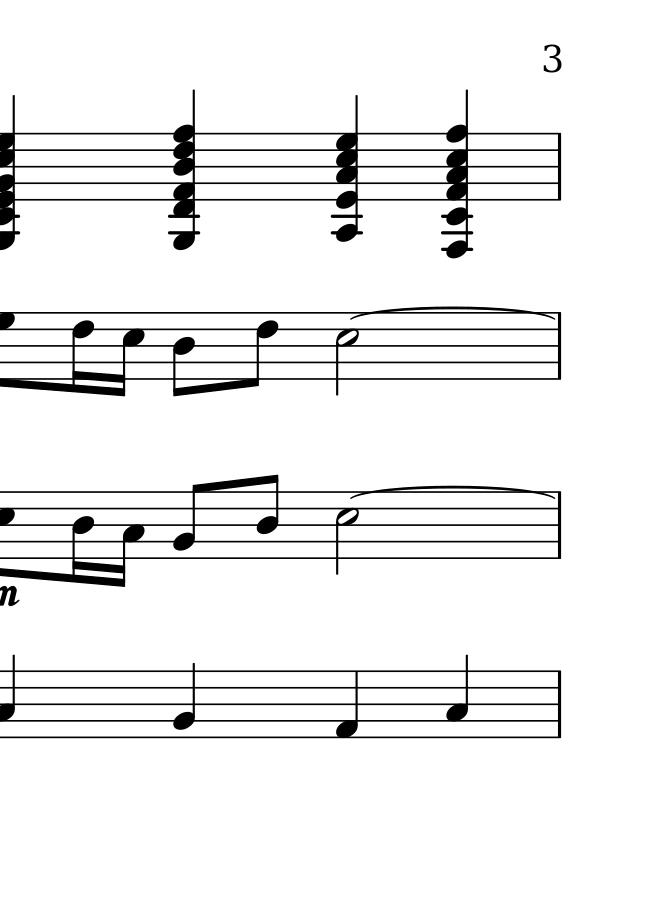16_3: (111, 488, 146, 588)
16_4: (71, 489, 95, 588)
16_5: (112, 310, 145, 399)
16_6: (70, 311, 95, 396)
2_5: (333, 311, 362, 398), (333, 489, 360, 574)
4_1: (334, 668, 362, 742)
4_2: (172, 660, 199, 741)
4_3: (444, 652, 470, 740)
8_2: (172, 481, 208, 561)
8_4: (253, 473, 281, 561), (170, 310, 196, 398)
8_6: (244, 310, 281, 391)
Single_barline: (550, 673, 568, 735), (551, 314, 567, 377), (551, 133, 566, 199), (552, 497, 567, 556)
Slur: (348, 306, 557, 321), (350, 485, 556, 500)
